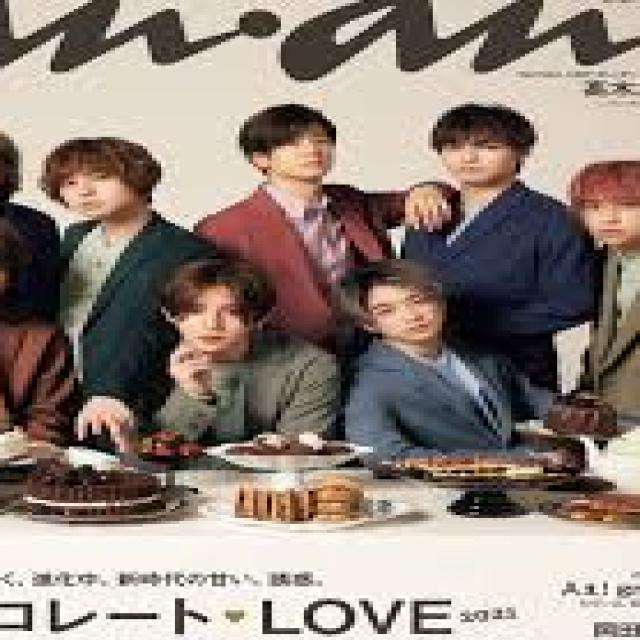organic: (9, 16, 620, 615)
